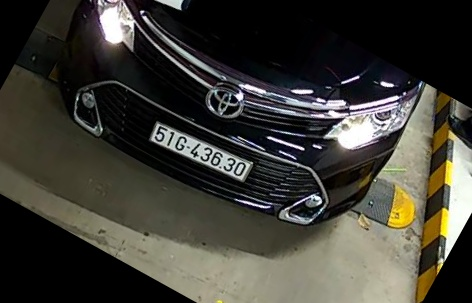plate: (149, 120, 254, 187)
